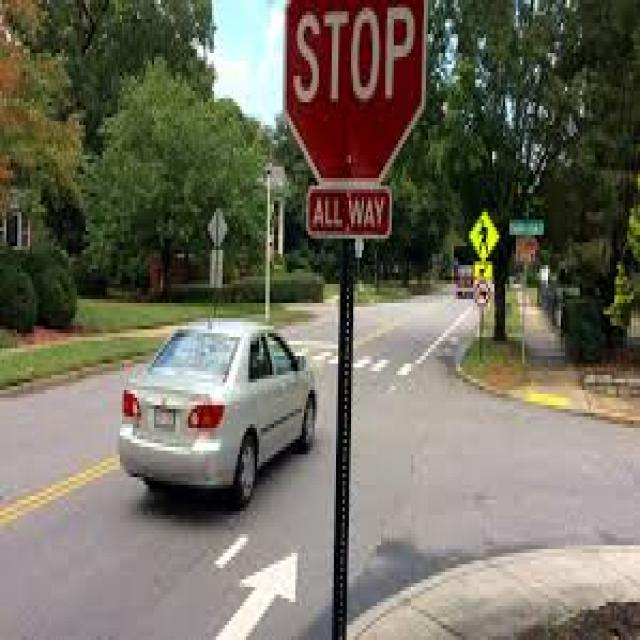stop-sign: (277, 13, 421, 182)
